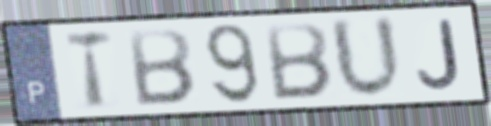9: (201, 22, 263, 106)
B: (263, 20, 335, 102), (126, 26, 198, 108)
J: (414, 17, 464, 92)
T: (62, 27, 115, 112)
U: (326, 13, 407, 102)
